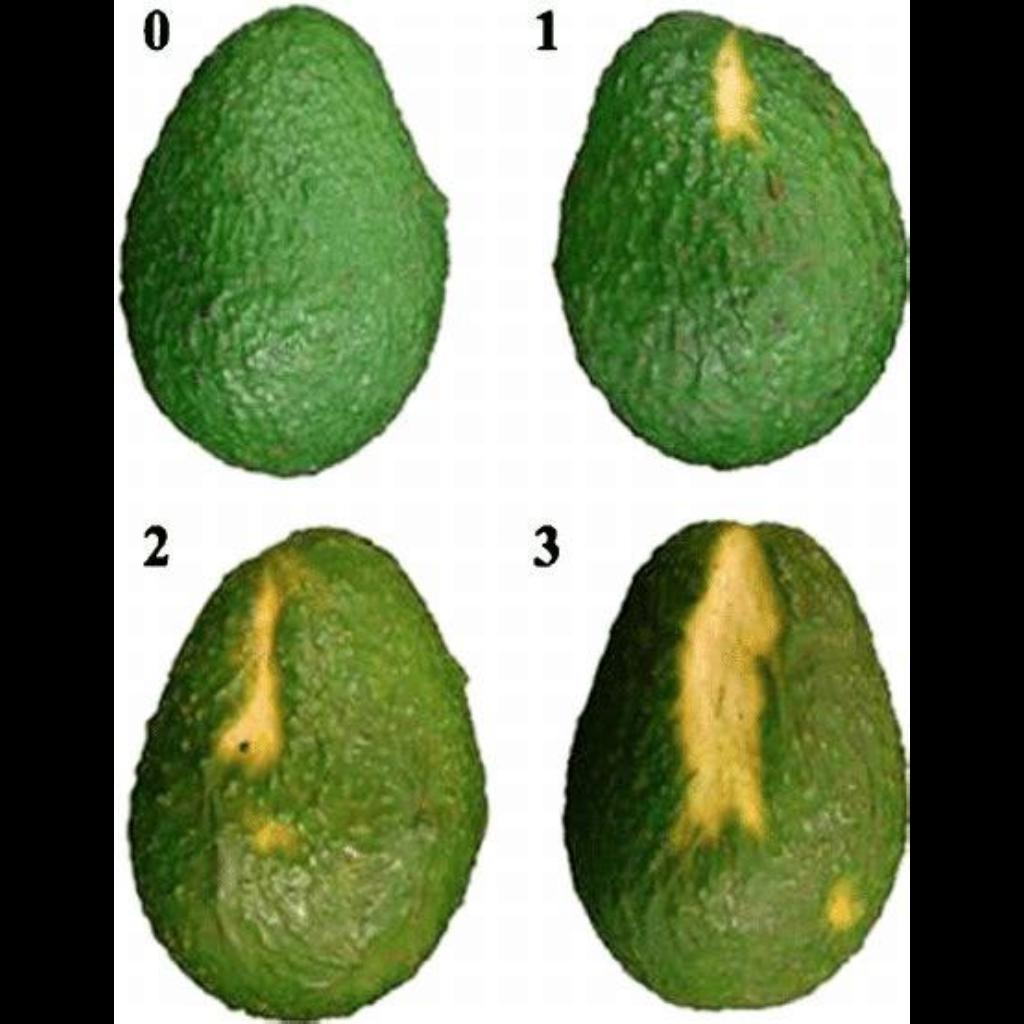sunblotch: (139, 521, 441, 955), (587, 531, 879, 962), (568, 11, 884, 371)
